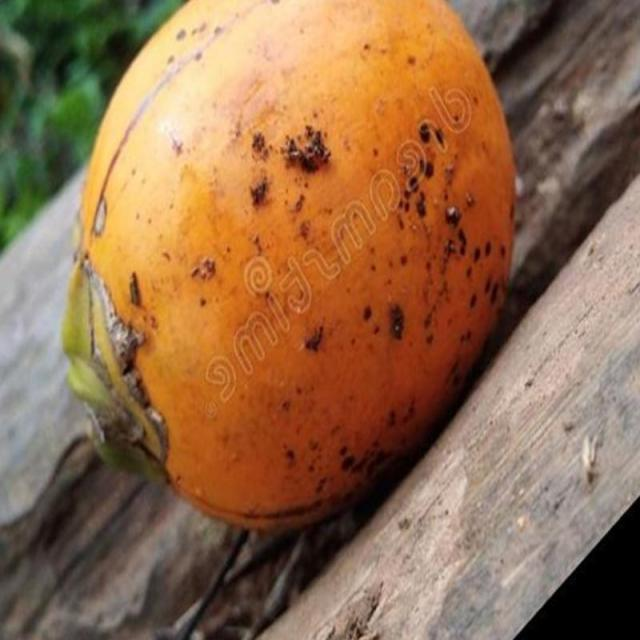good: (62, 0, 517, 540)
